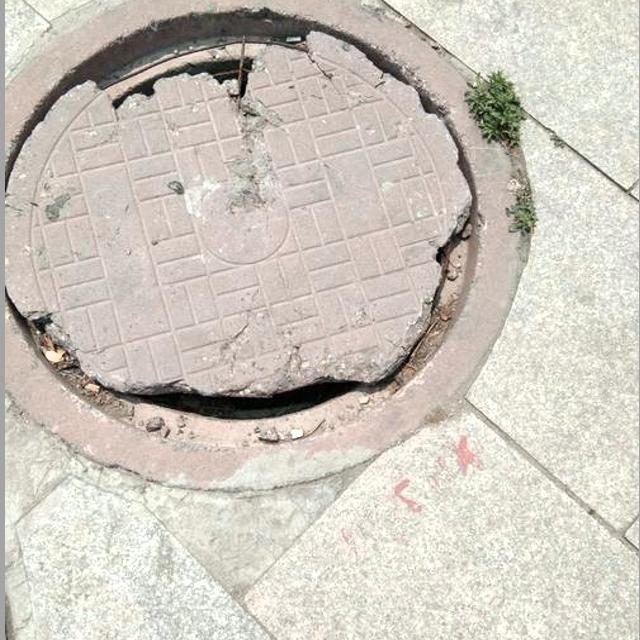broke: (5, 0, 539, 498)
